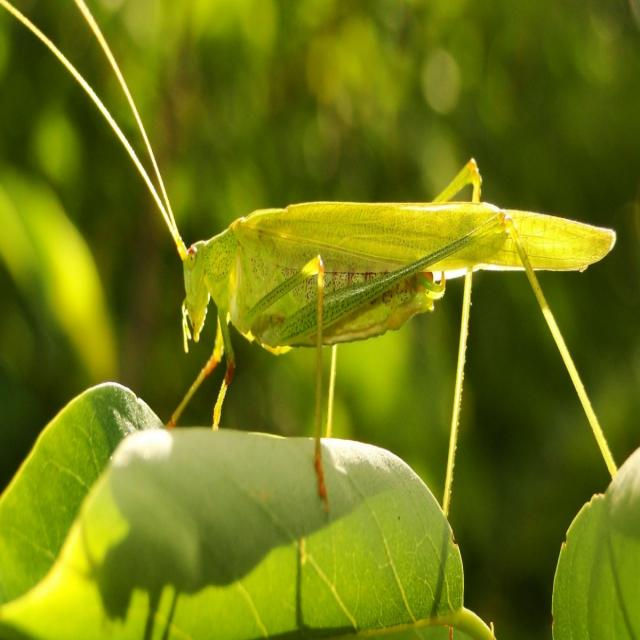ZhaMeng: (166, 158, 617, 371)
